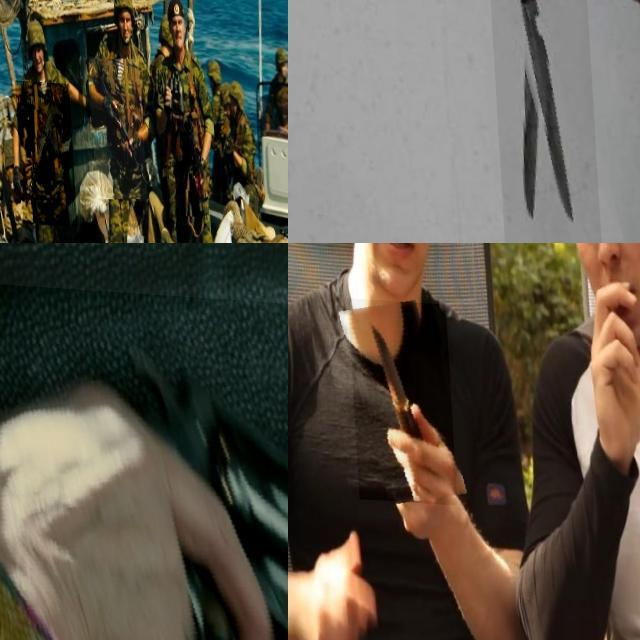-: (479, 0, 596, 242), (344, 296, 452, 502)
gun-knife-thesis - v11 Yolov5 augmented: (0, 279, 288, 640), (0, 0, 281, 155), (10, 80, 70, 226), (83, 55, 141, 199), (170, 102, 202, 214)
